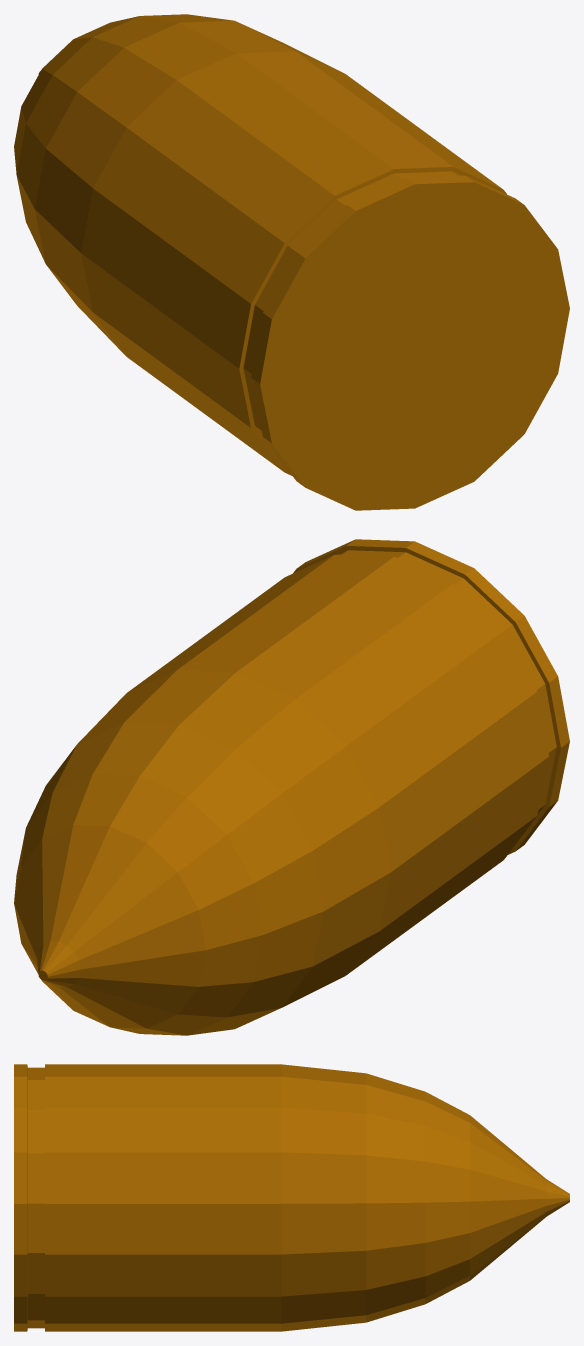
The model's file is lowpoly_pistol_bullet.fbx.
3 views of the same model, one above another, from view 1: azimuth 30°, elevation 25°; view 2: azimuth 150°, elevation 25°; view 3: azimuth 270°, elevation 25° (orthographic). The views are drawn at different scales.
Parts seen in each view (by area): view 1: Bullet; view 2: Bullet; view 3: Bullet.
Boxes of the visible parts, x1,y1,x2,y2 form: Bullet: (14,14,569,510); Bullet: (14,539,569,1035); Bullet: (14,1064,569,1331).
Bounding box in the file's own units: 21.21 × 21.21 × 44.08.
